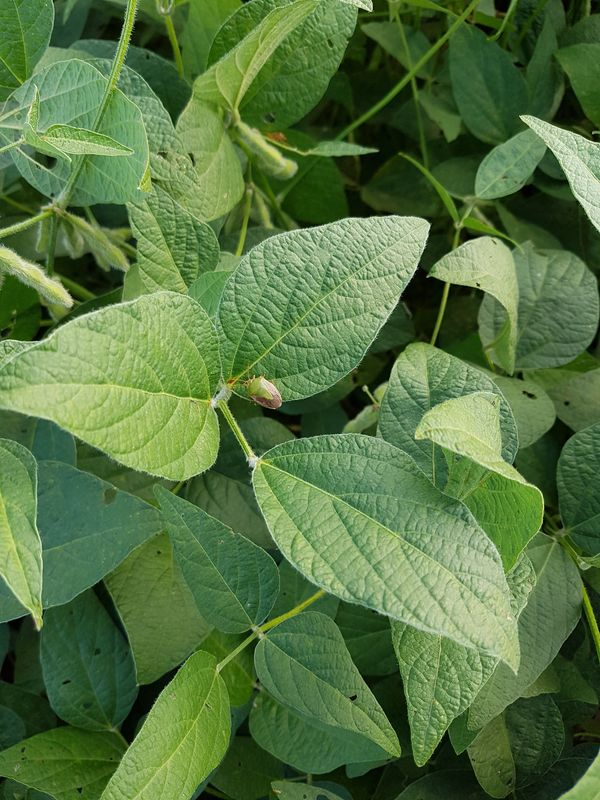Edessa_meditabunda: (229, 365, 290, 421)
